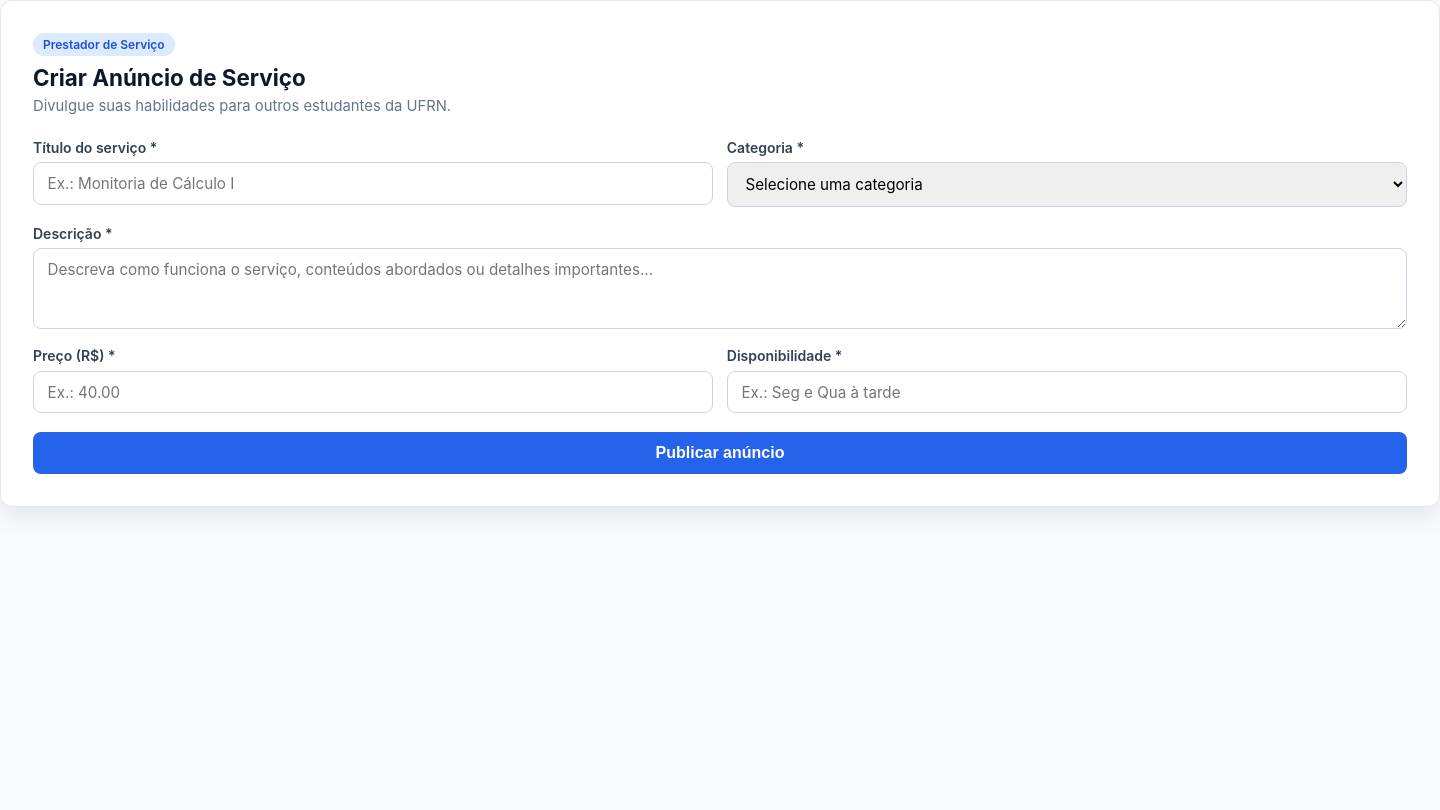
ServiceListingForm › deve publicar anúncio com categoria, descrição, preço e disponibilidade e atualizar a busca
In the field labelled "Título do serviço *": point(373, 183) [33,162,713,205], type "Monitoria de Cálculo I"
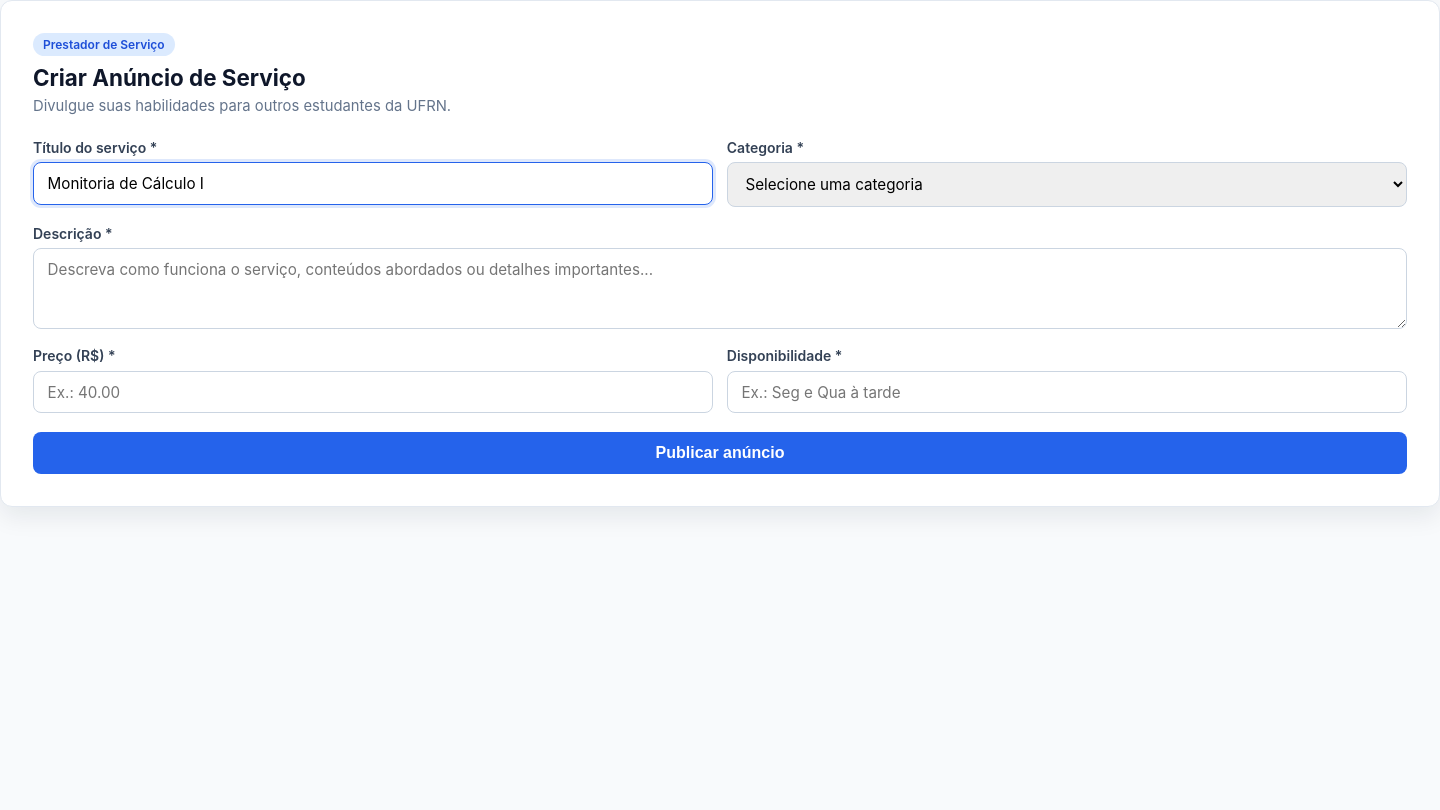
Select "Aula Particular / Monitoria" in the dropdown labelled "Categoria *": point(1067, 184) [727,162,1407,207]
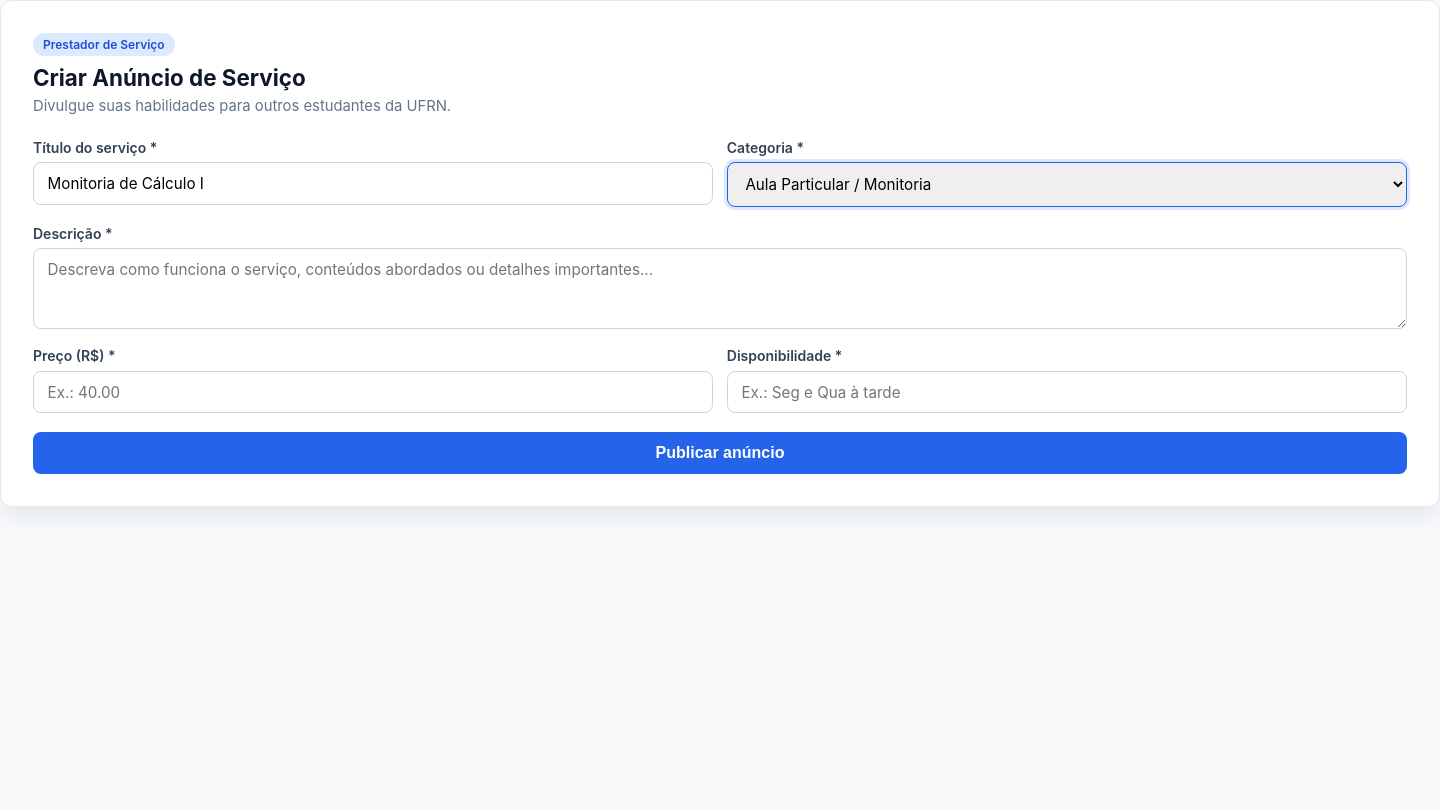
In the text box labelled "Descrição *": point(720, 289) [33,248,1407,329], type "Ajuda com limites, derivadas e integrais."
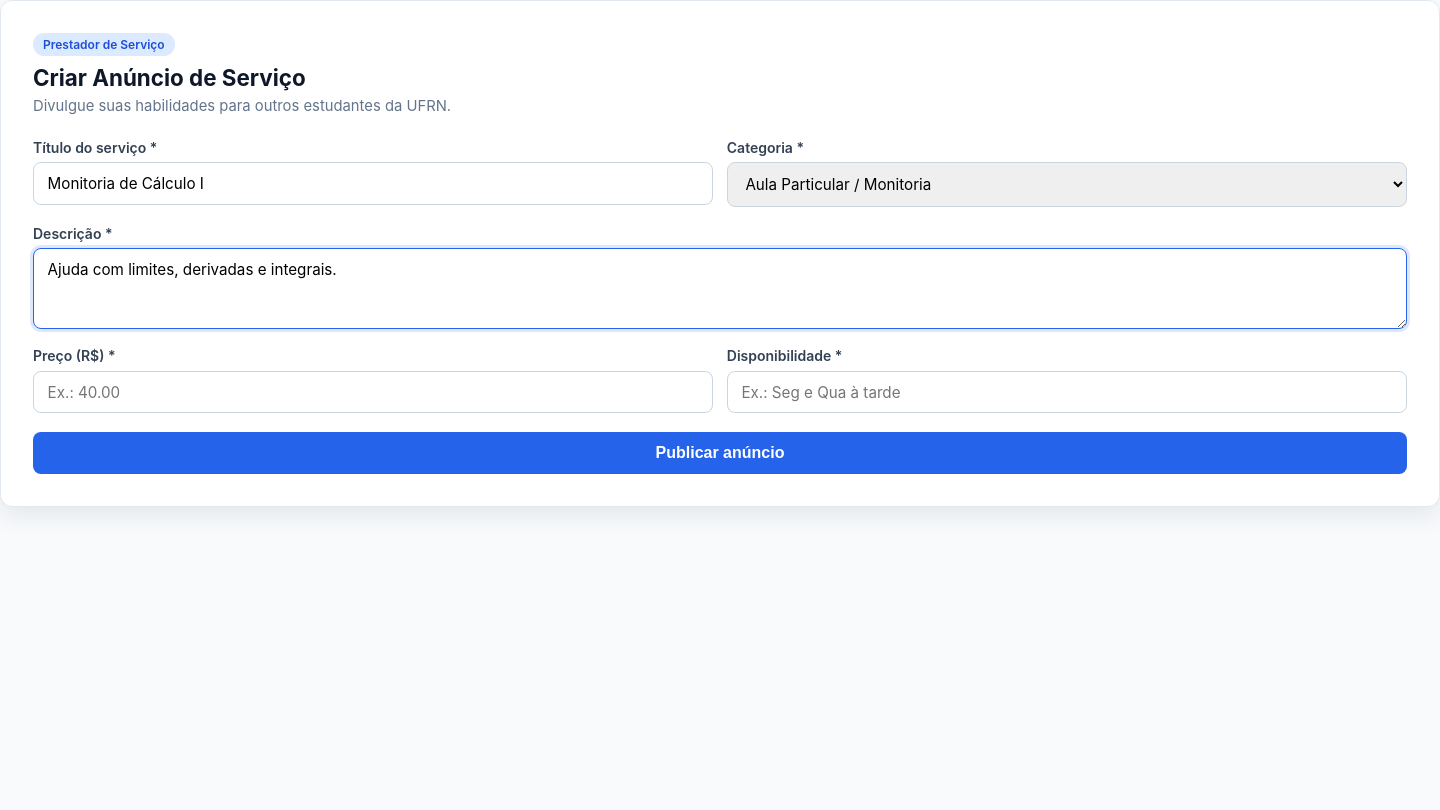
In the number field labelled "Preço (R$) *": point(373, 392) [33,371,713,413], type "45"
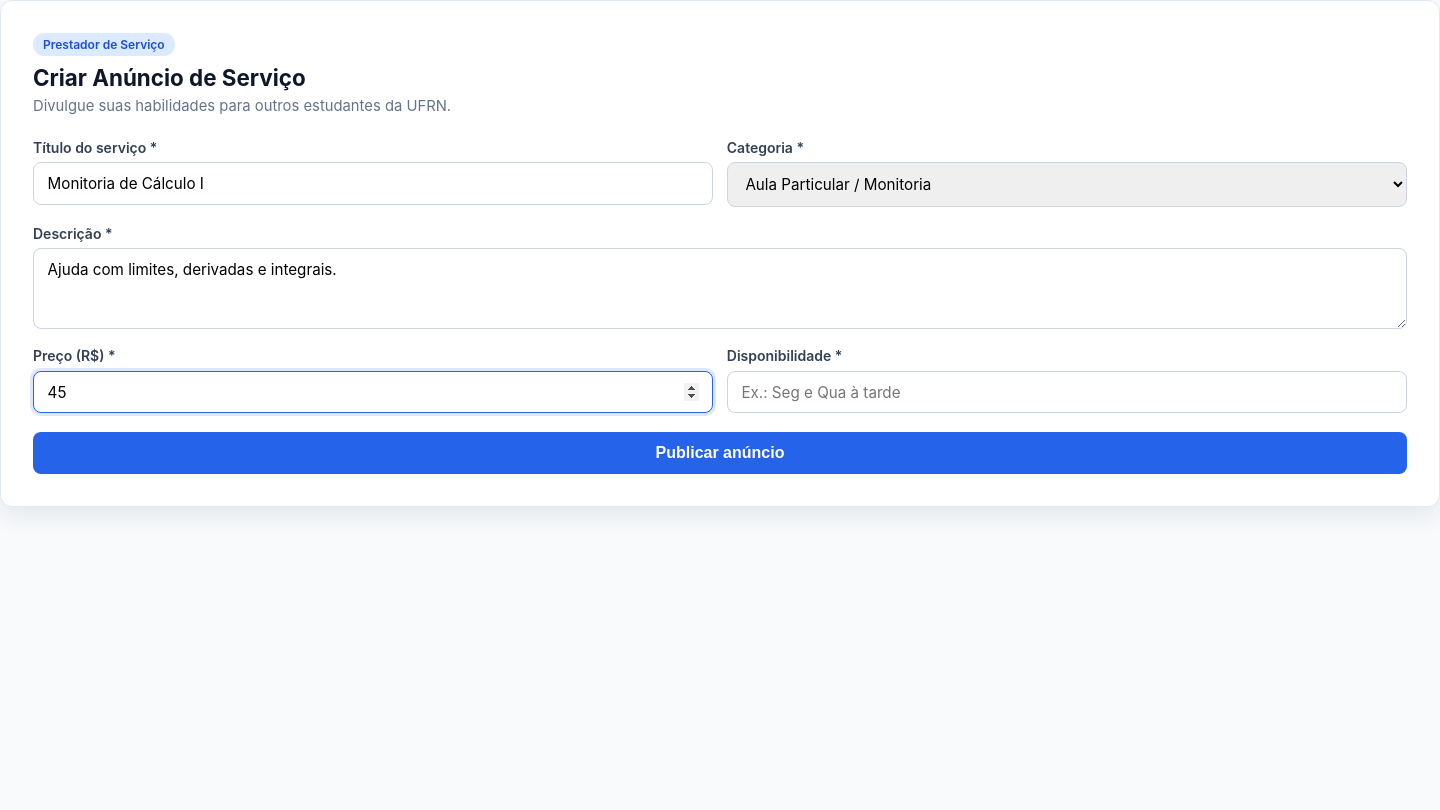
In the field labelled "Disponibilidade *": point(1067, 392) [727,371,1407,413], type "Terças e Quintas à tarde"
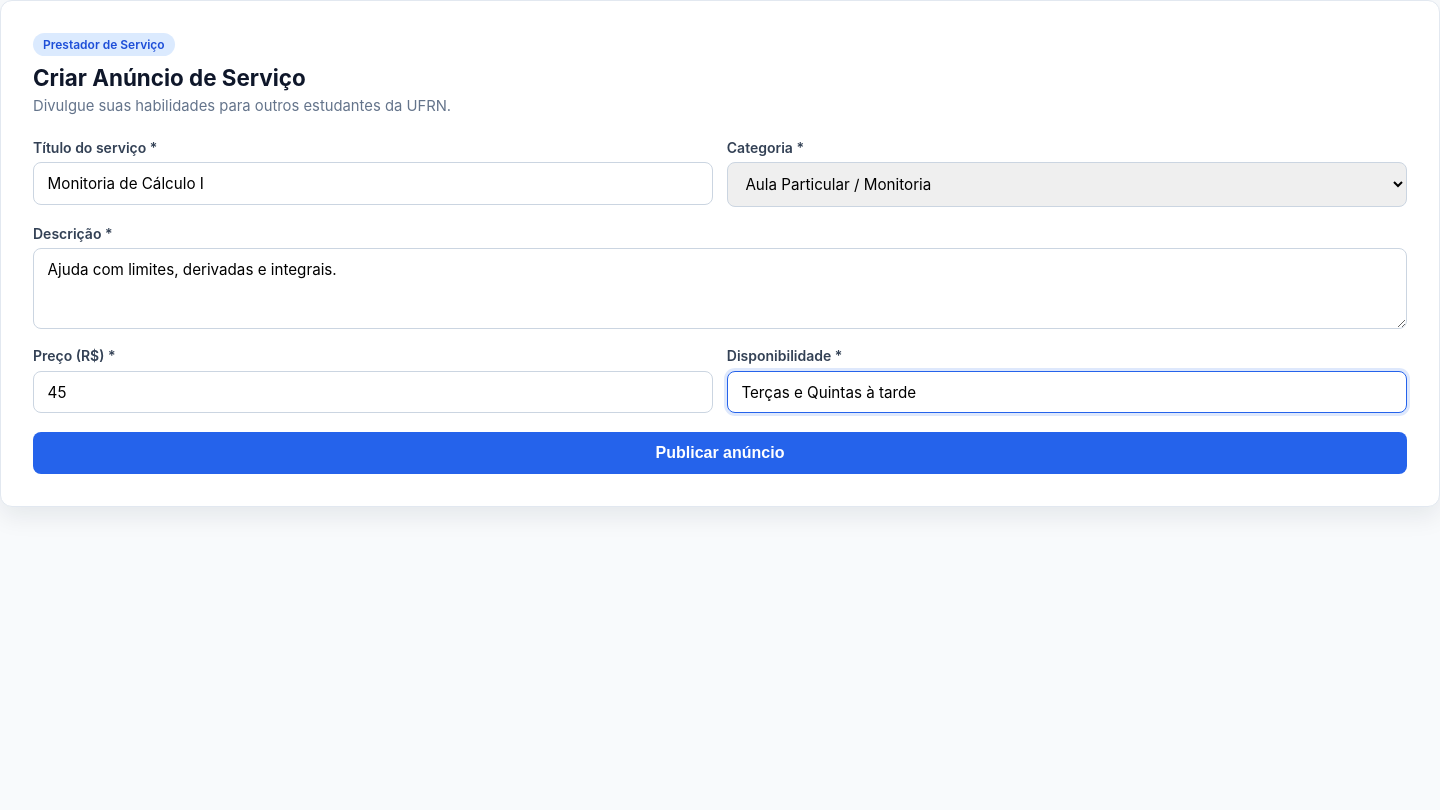
Click the button "Publicar anúncio": point(720, 453) [33,432,1407,474]
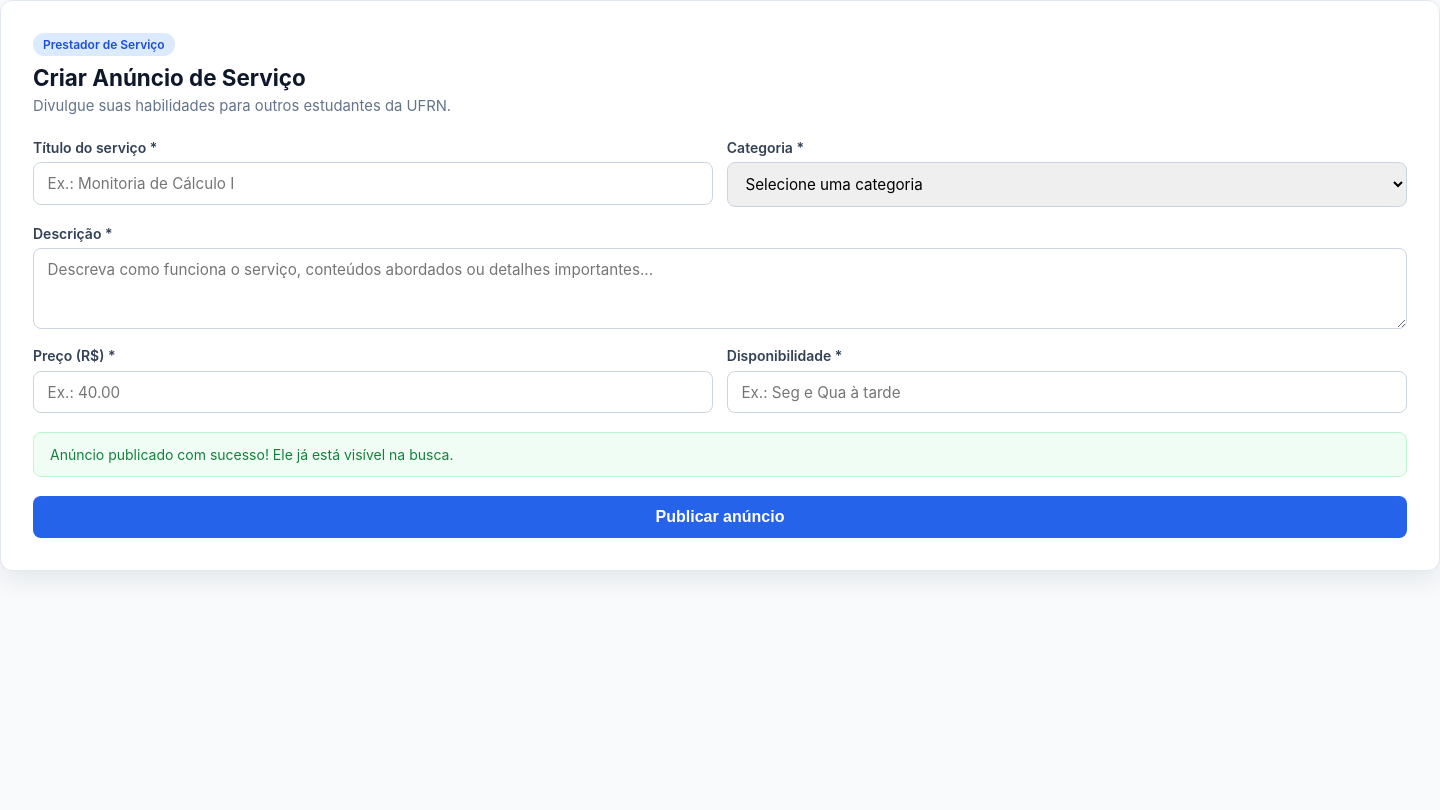
Expected: the text "Anúncio publicado com sucesso! Ele já está visível na busca." is shown, [33,432,1407,477]
